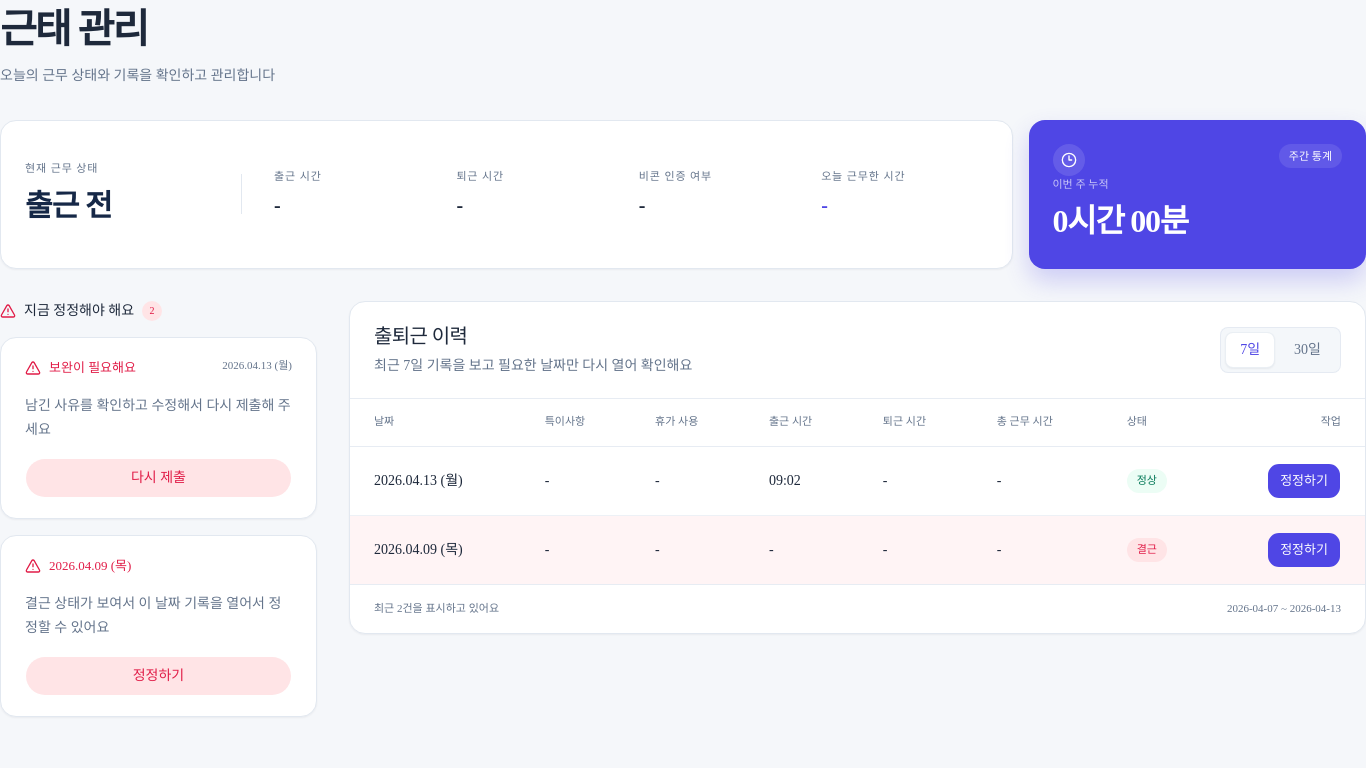
AttendancePageClient › shows revision_requested rationale and submits a resubmission follow-up
Step 1. Click the button "다시 제출" → [158, 478], box [25, 458, 292, 498]
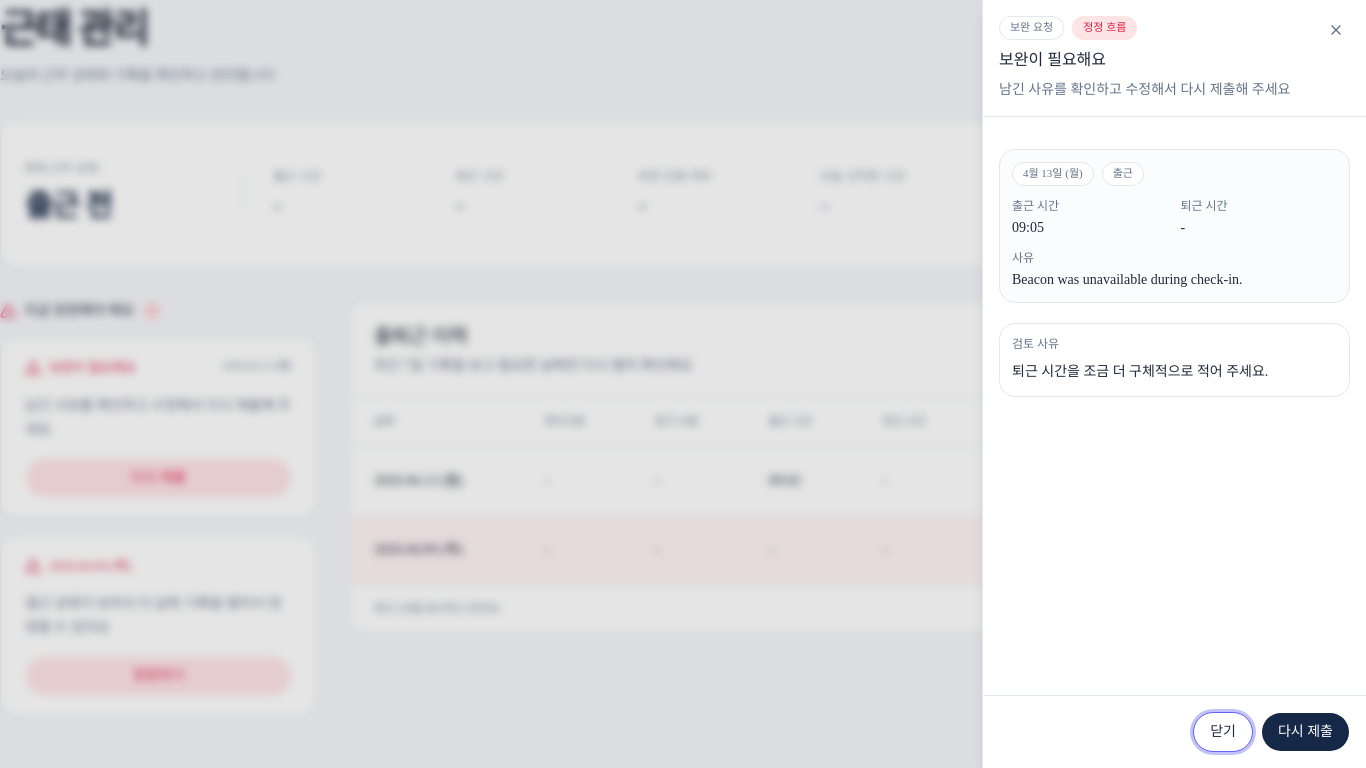
Expected: the text "퇴근 시간을 조금 더 구체적으로 적어 주세요." is shown, [1012, 364, 1268, 379]
Step 2. Click the button "다시 제출" → [1306, 732], box [1261, 712, 1350, 752]
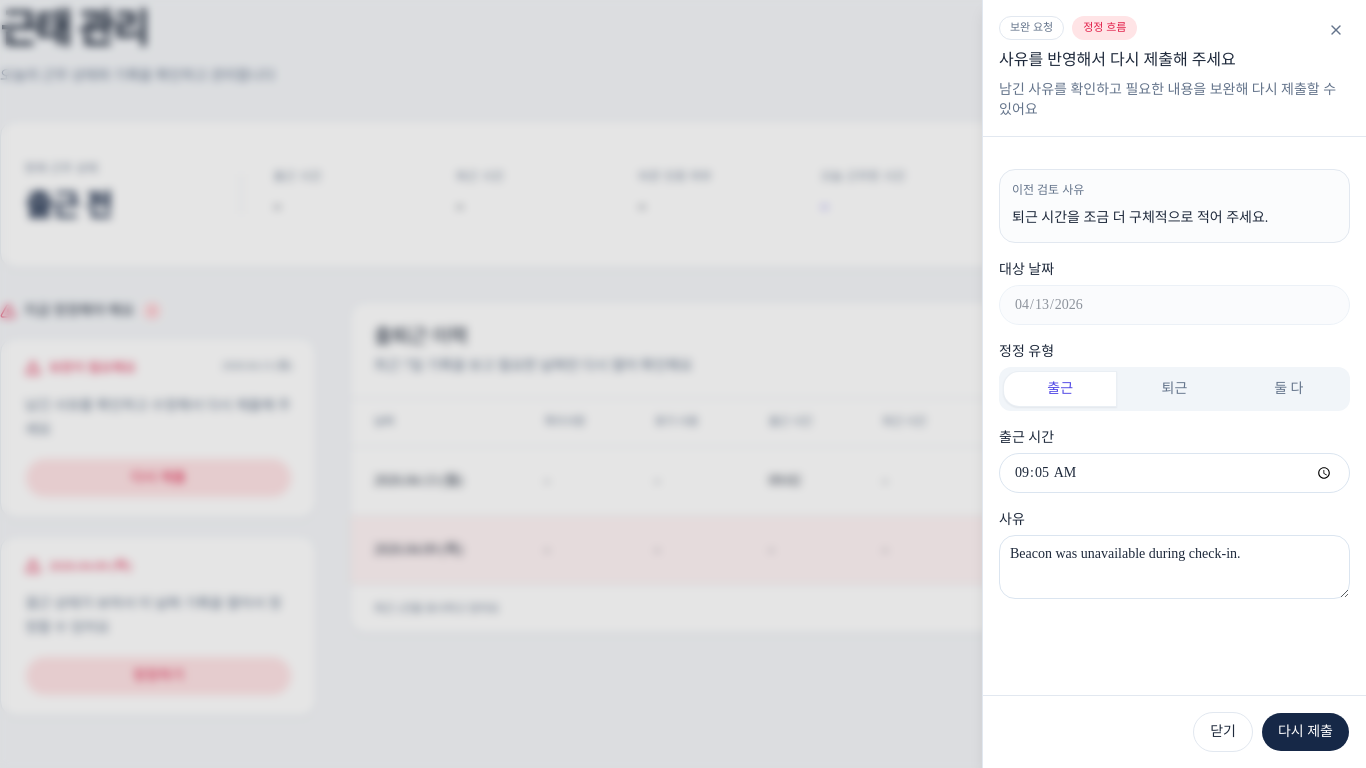
Step 3. Replace the text in the text box labelled "사유" with "보완 요청 내용을 반영해서 다시 제출합니다." → [1174, 567], box [999, 535, 1350, 599]
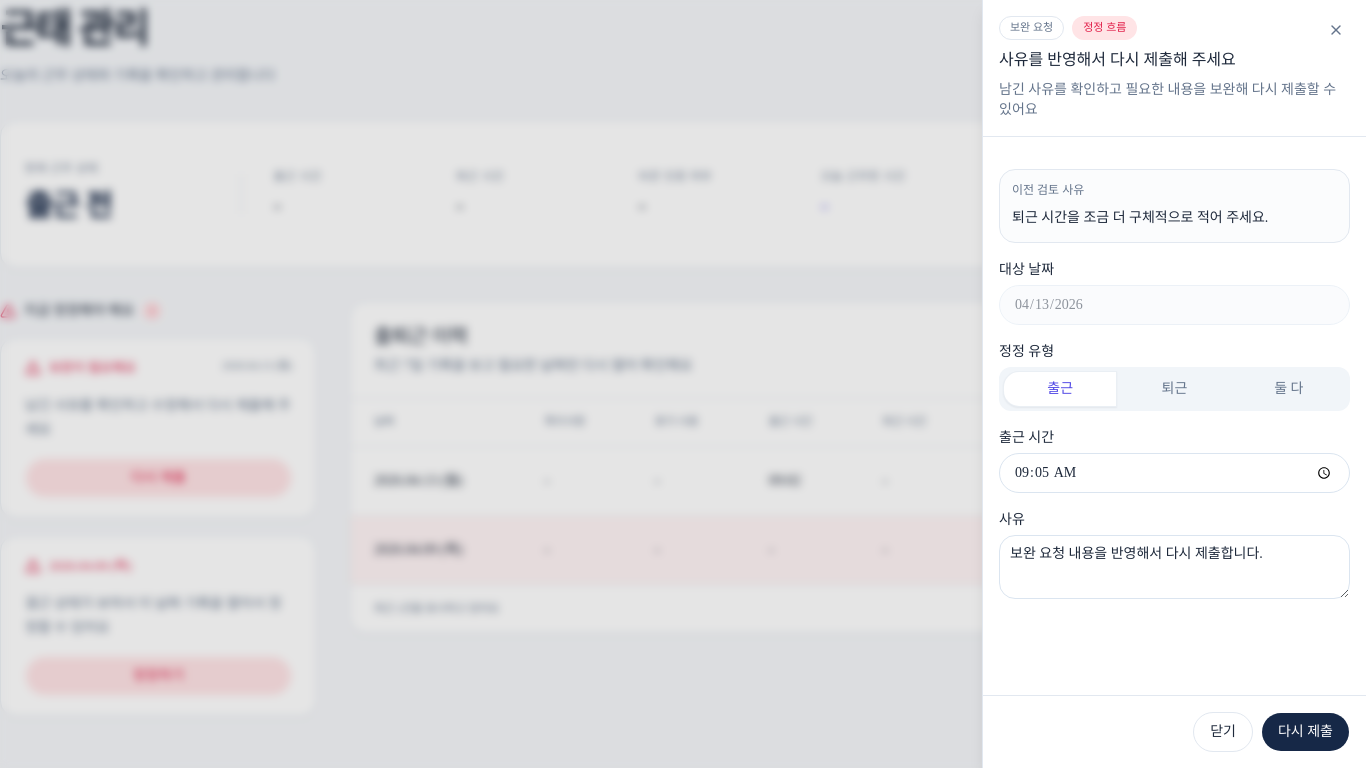
Step 4. Click the button "다시 제출" → [1306, 732], box [1261, 712, 1350, 752]
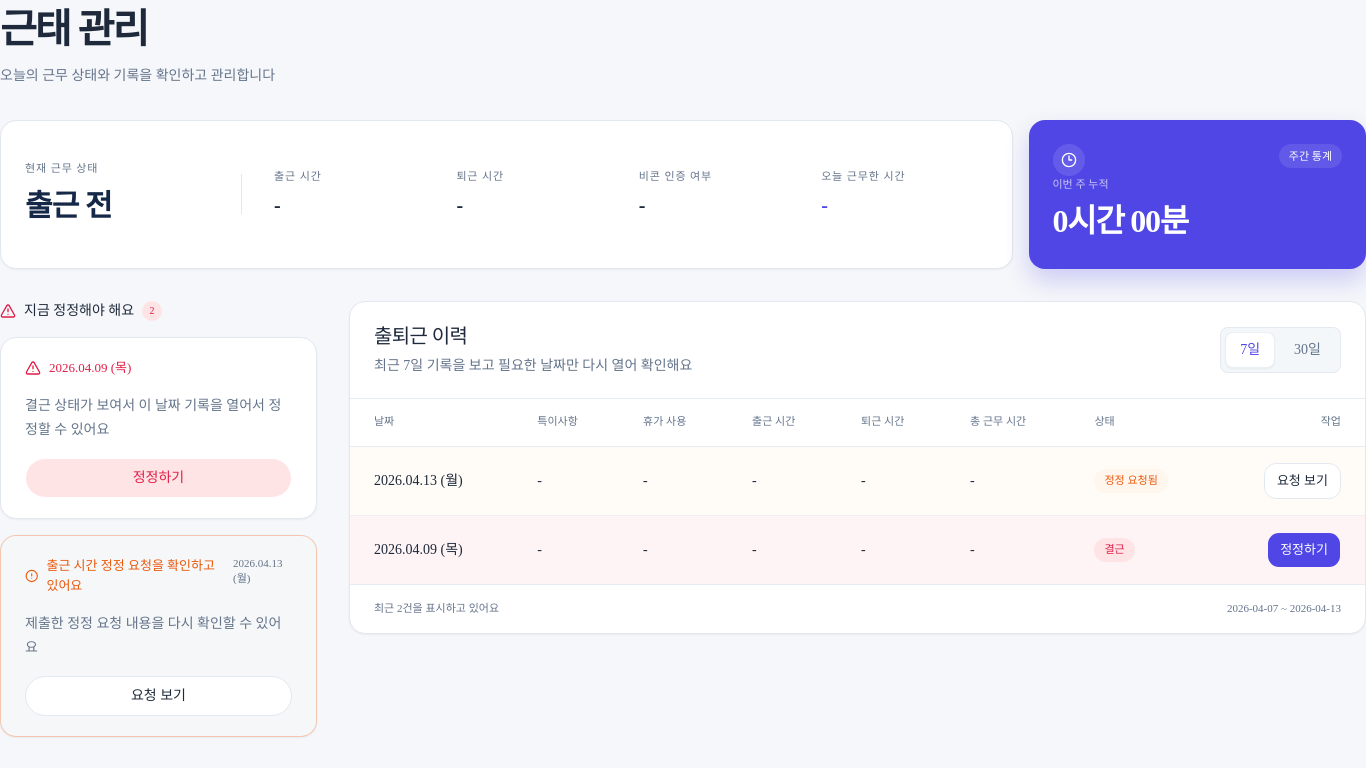
Expected: the text "출근 시간 정정 요청을 확인하고 있어요" is shown, [46, 556, 221, 596]
Expected: the text "다시 제출" is gone
